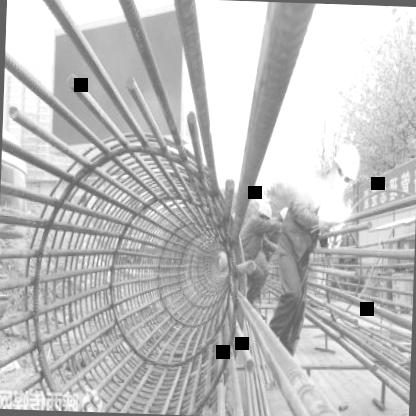helmet: (330, 142, 362, 189), (256, 202, 274, 231)
